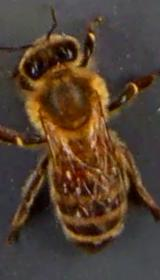varroa_mite: (59, 159, 88, 187)
